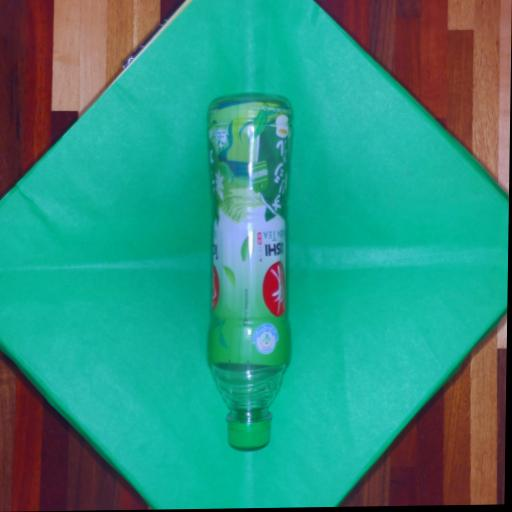bottle: (209, 96, 291, 448)
